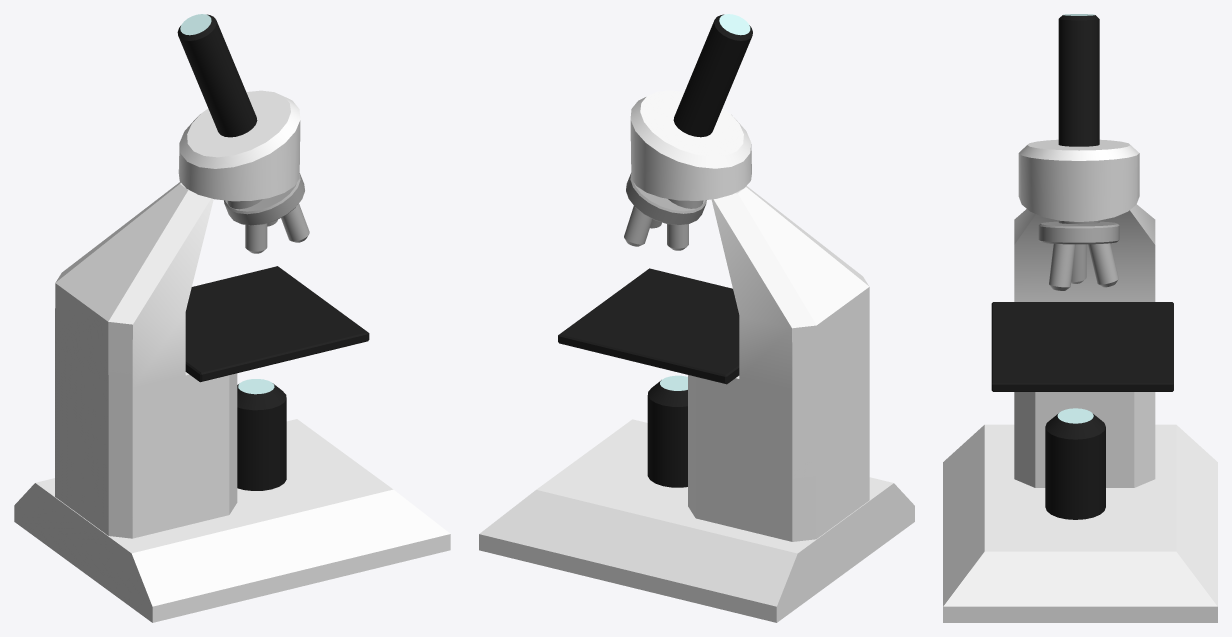
Rendered from Microscope (updated).fbx.
3 views of the same model, side by side, from view 1: azimuth 30°, elevation 25°; view 2: azimuth 150°, elevation 25°; view 3: azimuth 270°, elevation 25° (orthographic).
Parts seen in each view (by area): view 1: Microscope; view 2: Microscope; view 3: Microscope.
Boxes of the visible parts, x1=… form: Microscope: x1=14, y1=14, x2=450, y2=622; Microscope: x1=479, y1=14, x2=914, y2=622; Microscope: x1=943, y1=14, x2=1217, y2=622.
Size of the model in its own units: 163 by 274 by 131.
